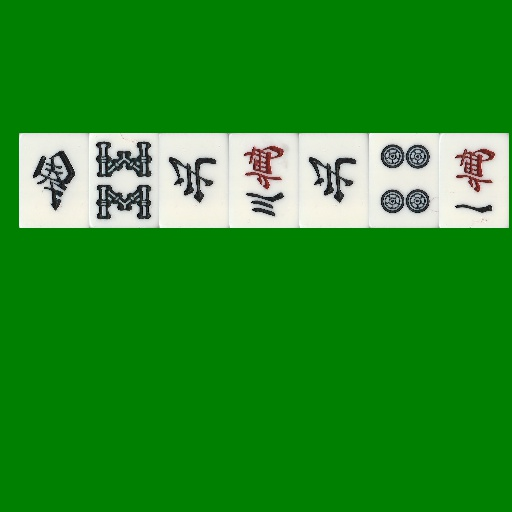1m: (439, 133, 509, 228)
3m: (229, 133, 299, 228)
4p: (369, 133, 439, 228)
8s: (89, 133, 159, 228)
north: (159, 133, 229, 228), (299, 133, 369, 228)
south: (19, 133, 89, 228)
